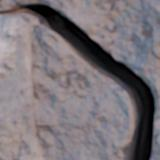brick: (0, 15, 41, 159)
crack: (0, 0, 157, 159)
